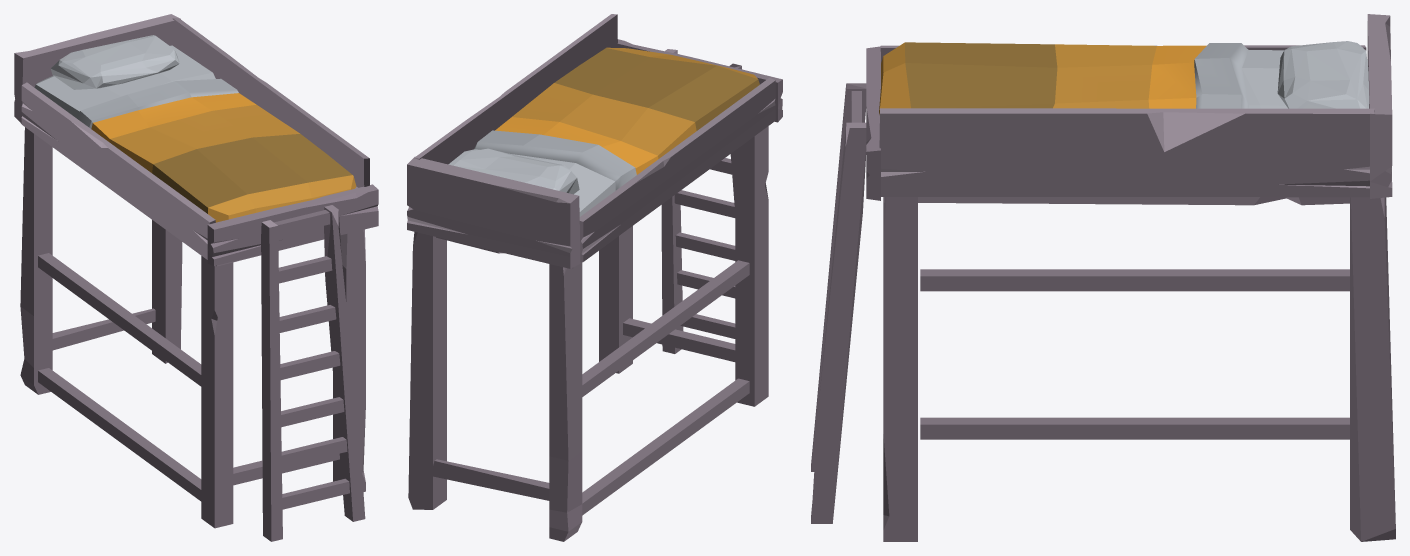
Rendered from Bed_High_Yellow.fbx.
3 renders of one model, left to right at view 1: azimuth 30°, elevation 25°; view 2: azimuth 150°, elevation 25°; view 3: azimuth 270°, elevation 25°, orthographic. The views are drawn at different scales.
Visible parts, largest first — view 1: Bed_High_Yellow; view 2: Bed_High_Yellow; view 3: Bed_High_Yellow.
Part boxes in pixels (<box>): Bed_High_Yellow: <box>14,14,378,541</box>; Bed_High_Yellow: <box>407,14,782,541</box>; Bed_High_Yellow: <box>811,14,1395,541</box>.
Bounding box in the file's own units: 1.1 × 2.11 × 2.6.
Materials: 1 (1 with a texture image).
